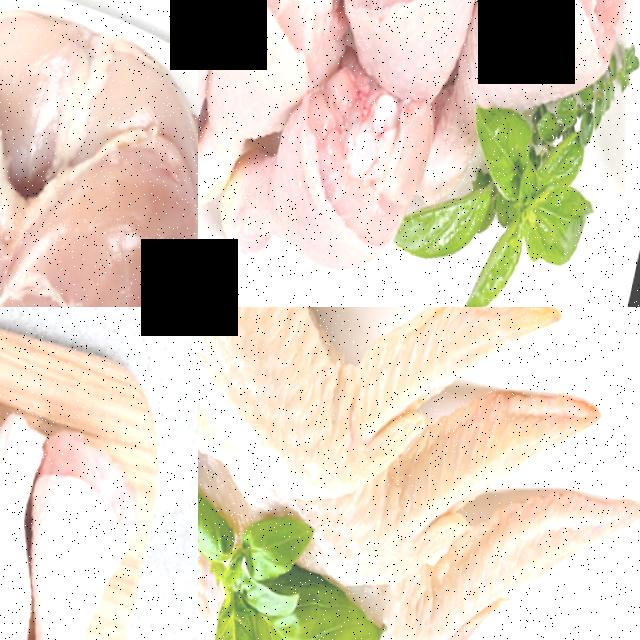chicken breast: (0, 0, 198, 307)
chicken thigh: (222, 114, 426, 290), (0, 414, 155, 640), (198, 0, 334, 221), (459, 0, 640, 120), (0, 389, 71, 640), (335, 0, 500, 100)
chicken wing: (198, 307, 565, 542)
